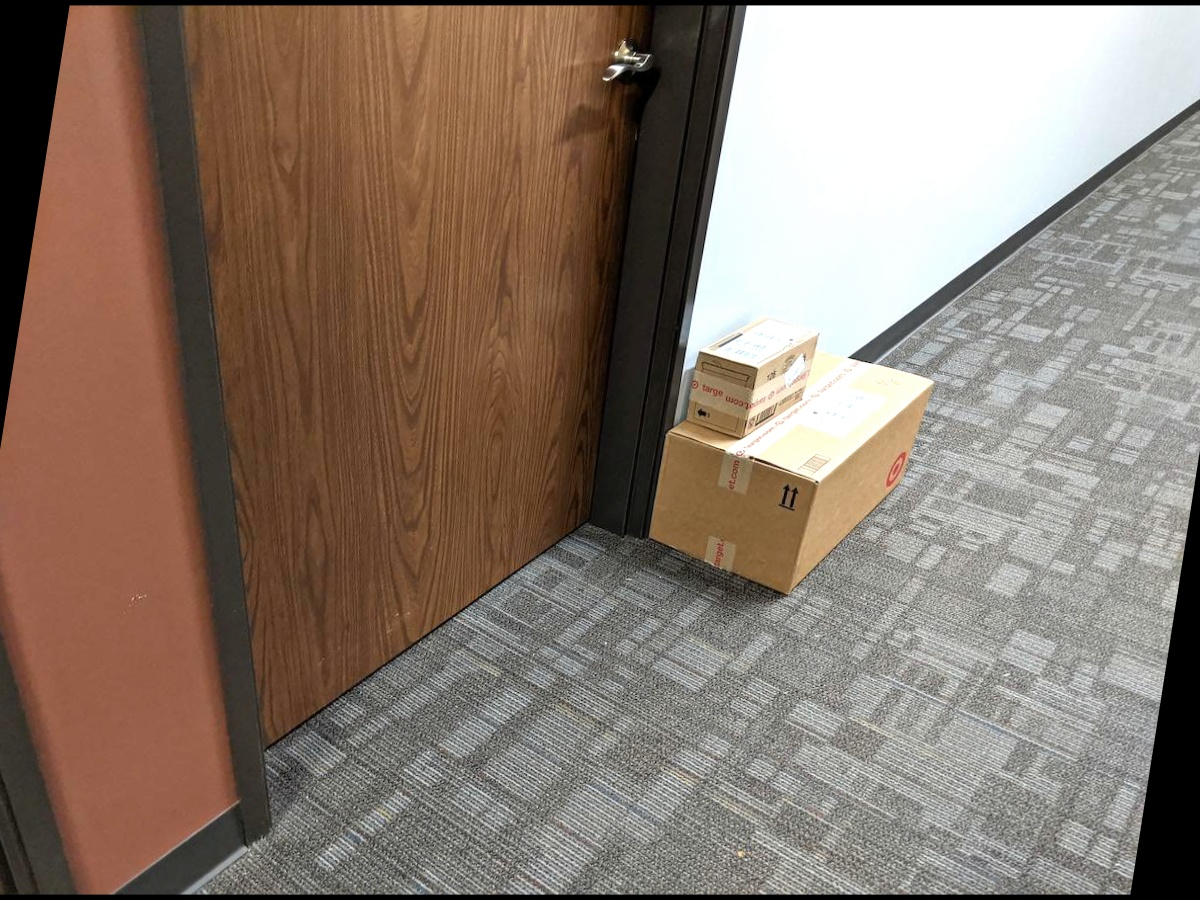good-parcel: (642, 349, 946, 599), (662, 310, 841, 428)
